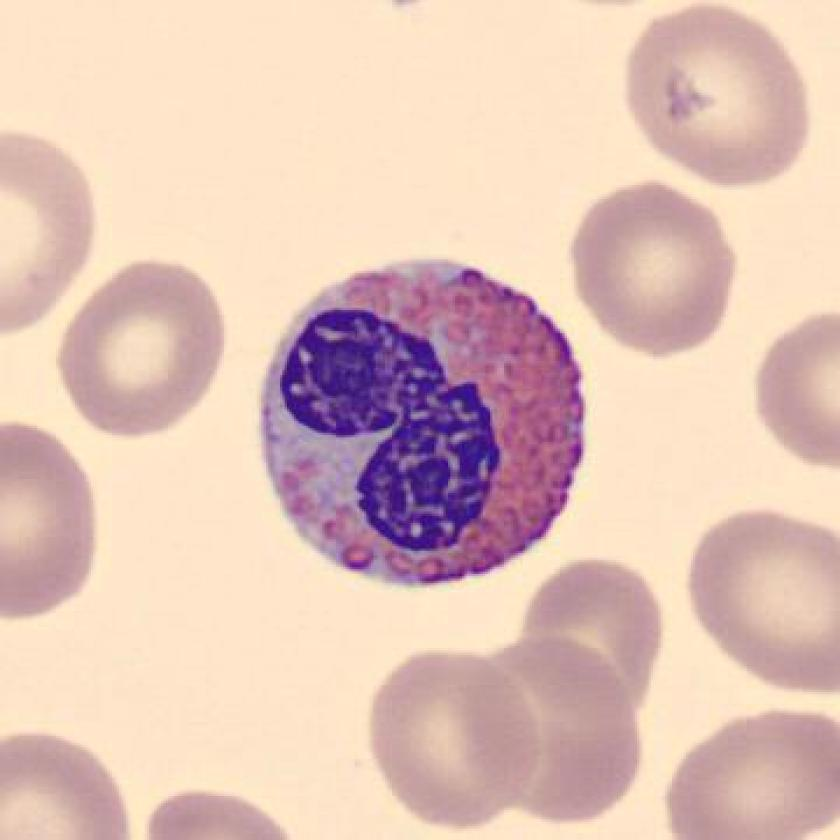eosinophil: (246, 247, 598, 601)
